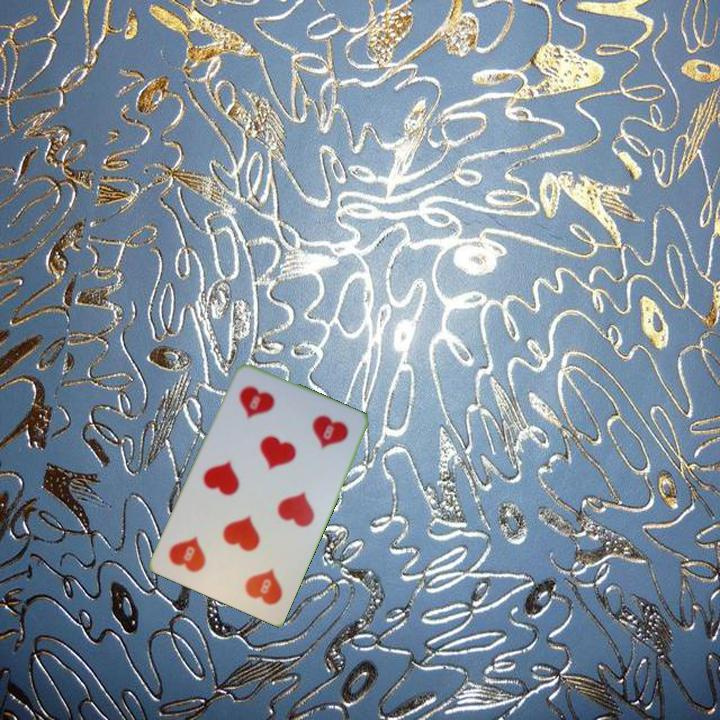h_8.png: (221, 371, 304, 449), (215, 536, 298, 614)
